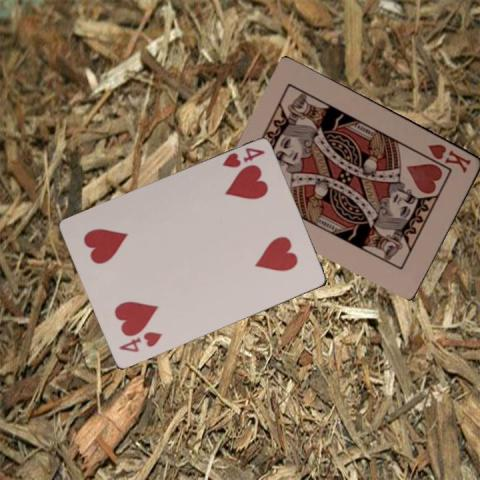4h: (115, 329, 164, 354), (219, 145, 266, 170)
Kh: (424, 141, 472, 174)
